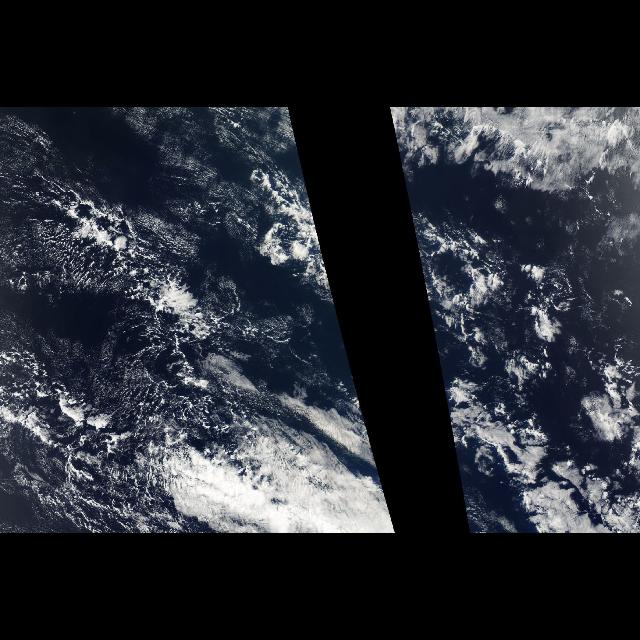Fish: (392, 132, 640, 398), (122, 132, 360, 398)
Gravel: (2, 175, 175, 533)
Sugar: (0, 107, 252, 235)
